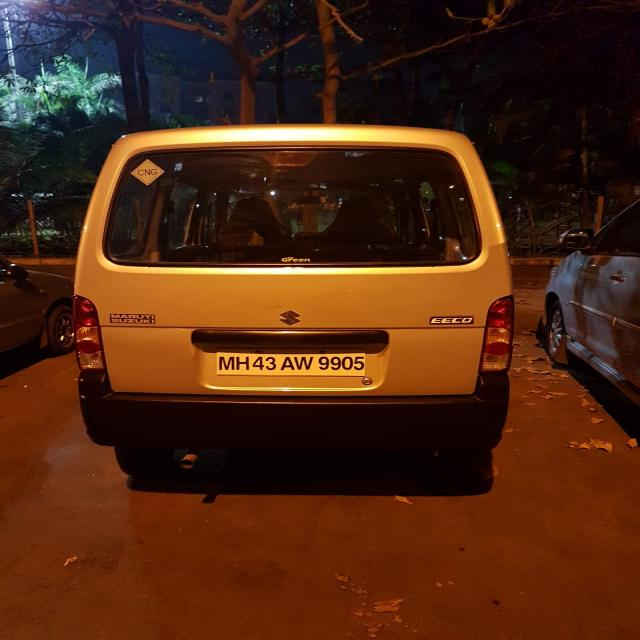Number-Plate: (215, 348, 368, 373)
